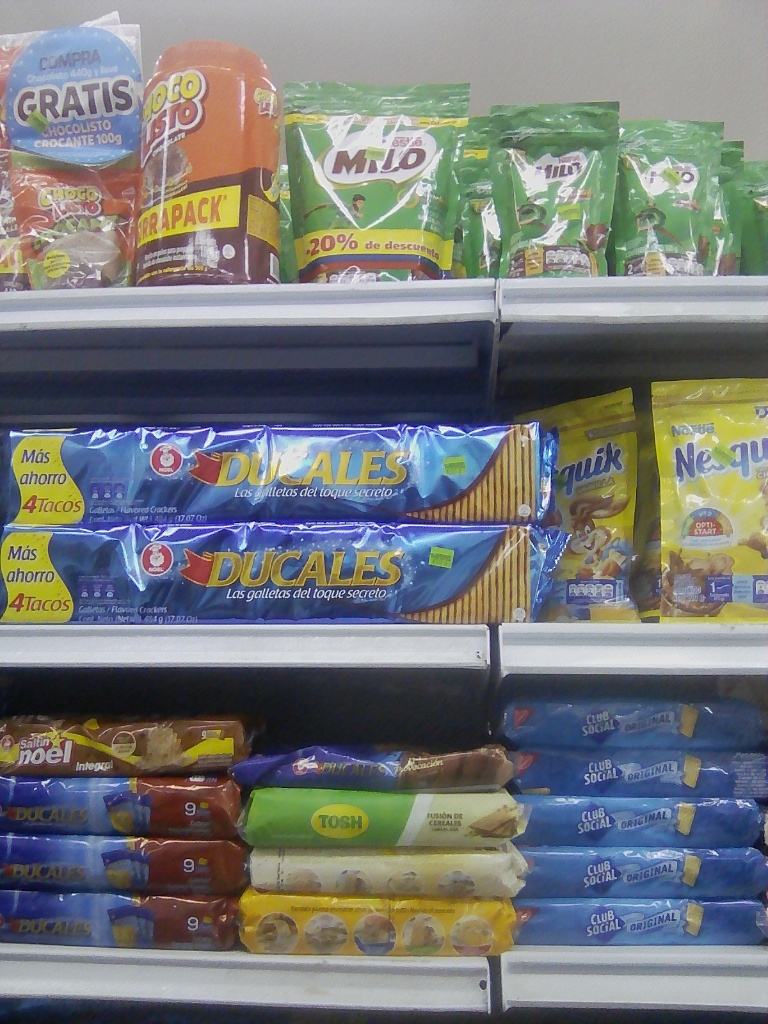COL0170102DYP10000: (2, 153, 138, 294)
COL0170103TRR00100: (137, 31, 283, 289)
COL0170203DYP10000: (489, 101, 624, 283)
COL0170203DYP25000: (278, 81, 473, 281)
COL0170303DYP20000: (646, 379, 766, 624)
COL0170306DYP20000: (507, 390, 643, 623)
